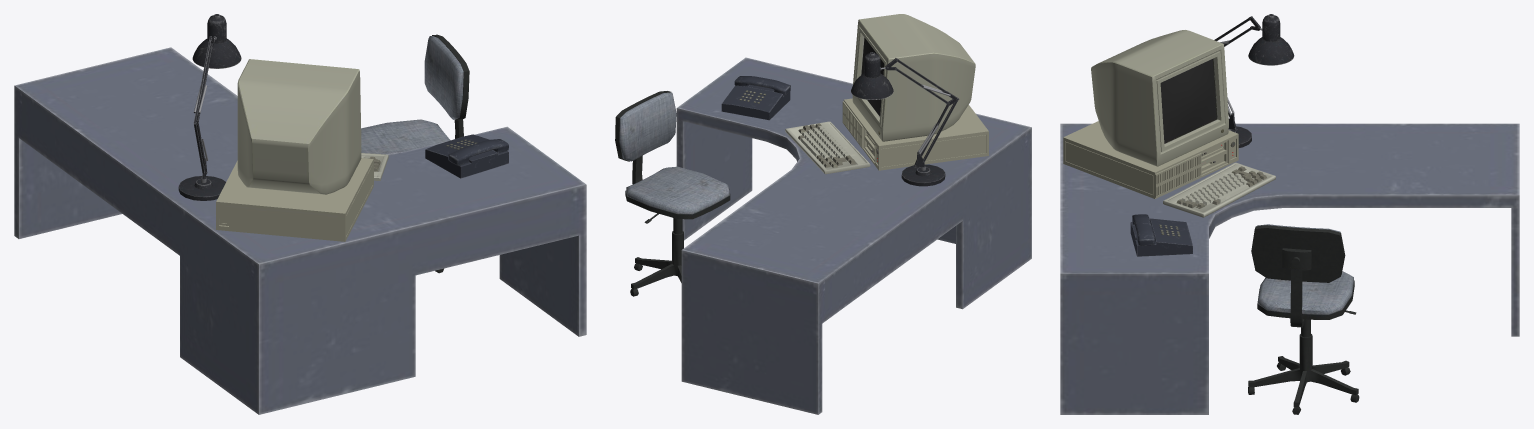
The model's file is SM_OfficeWorkstation.glb.
3 renders of one model, left to right at view 1: azimuth 30°, elevation 25°; view 2: azimuth 150°, elevation 25°; view 3: azimuth 270°, elevation 25°, orthographic. The views are drawn at different scales.
Visible parts, largest first — view 1: SM_OfficeWorkstation; view 2: SM_OfficeWorkstation; view 3: SM_OfficeWorkstation.
Part boxes in pixels (x1,y1,x2,y2): SM_OfficeWorkstation: (14,14,586,414); SM_OfficeWorkstation: (615,14,1031,414); SM_OfficeWorkstation: (1060,14,1519,414).
Size of the model in its own units: 2.72 by 2.36 by 3.48.
7 materials, 7 textured.
